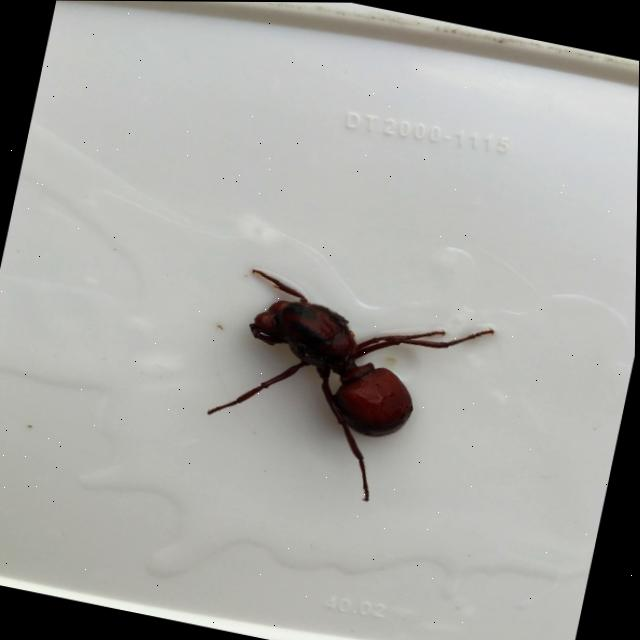Dead-Female-Dealate: (197, 264, 499, 520)
